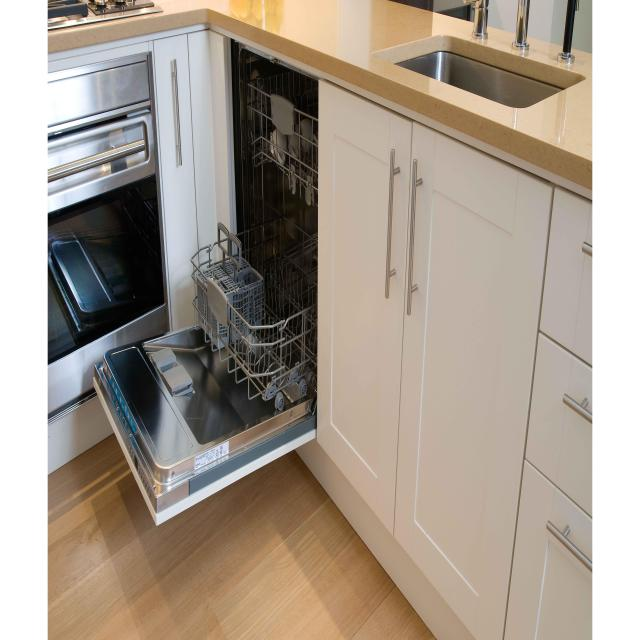dishwasher: (92, 57, 322, 522)
